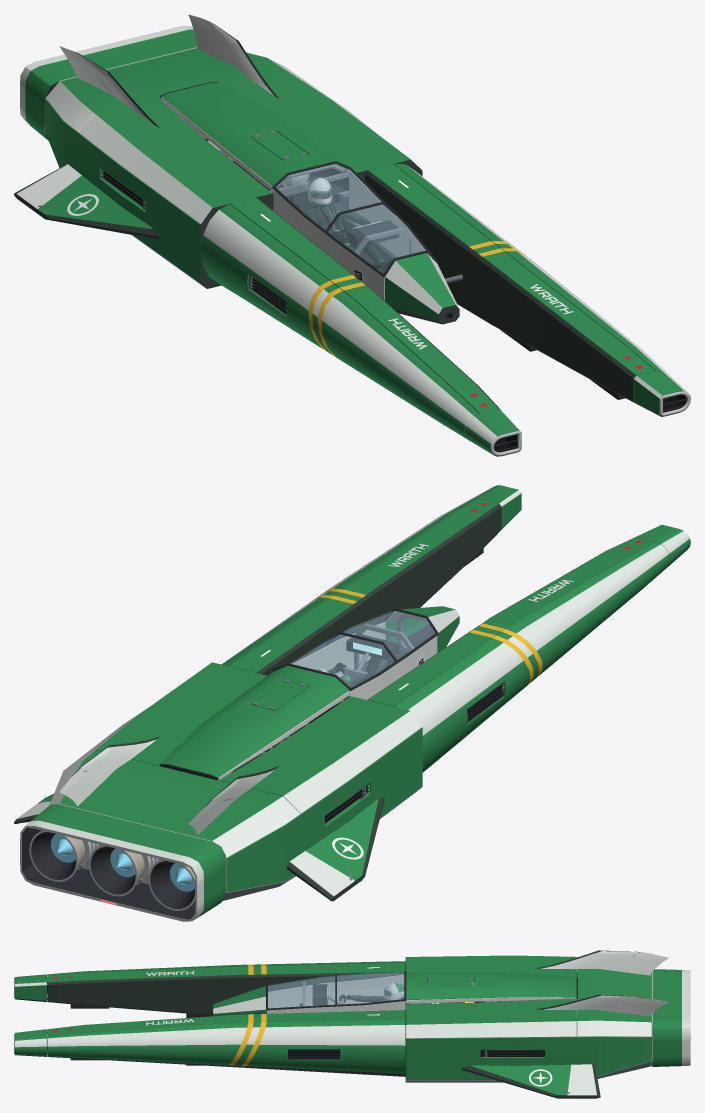
File: wraith.fbx
The picture shows the model from 3 angles, top to bottom: view 1: azimuth 30°, elevation 25°; view 2: azimuth 150°, elevation 25°; view 3: azimuth 270°, elevation 25°; orthographic projection. The views are drawn at different scales.
Visible parts, largest first — view 1: Arm_Outer_L, Arm_Inner_R, Deck_L, Canopy, Body_Side_L, Deck_R, Spine_Top, Deck_Rear, Arm_Top_L, Arm_Top_R, Engine_Shroud, Wing_Top_L (+18 smaller); view 2: Arm_Outer_L, Deck_Rear, Deck_L, Engine_Shroud, Body_Side_L, Spine_Top, Arm_Inner_R, Deck_R, Arm_Top_L, Arm_Top_R, Canopy, Wing_Top_L (+17 smaller); view 3: Arm_Outer_R, Body_Side_R, Arm_Inner_L, Deck_R, Spine_Top, Deck_Rear, Canopy, Engine_Shroud, Shark_Fins, Arm_Top_L, Arm_Top_R, Deck_L (+17 smaller).
Boxes of the visible parts, x1,y1,x2,y2 form: Arm_Outer_L: (201,204,478,439); Arm_Inner_R: (365,171,635,402); Deck_L: (78,99,271,223); Canopy: (276,163,425,273); Body_Side_L: (45,99,200,283); Deck_R: (222,68,421,172); Spine_Top: (161,82,348,186); Deck_Rear: (46,48,299,132); Arm_Top_L: (230,197,498,413); Arm_Top_R: (368,164,654,375); Engine_Shroud: (20,25,196,140); Wing_Top_L: (17,164,153,229); Arm_Outer_L: (394,542,670,772); Deck_Rear: (49,750,300,857); Deck_L: (220,696,421,813); Engine_Shroud: (20,804,225,921); Body_Side_L: (226,728,422,892); Spine_Top: (161,665,349,777); Arm_Inner_R: (257,504,501,675); Deck_R: (79,662,267,765); Arm_Top_L: (368,537,654,706); Arm_Top_R: (230,499,498,672); Canopy: (290,610,434,687); Wing_Top_L: (289,784,378,896); Arm_Outer_R: (47,1019,405,1076); Body_Side_R: (406,1036,651,1079); Arm_Inner_L: (47,972,403,1015); Deck_R: (406,999,576,1038); Spine_Top: (406,972,576,1000); Deck_Rear: (577,957,651,1036); Canopy: (268,972,404,1007); Engine_Shroud: (652,969,690,1066); Shark_Fins: (535,950,668,1016); Arm_Top_L: (47,963,405,982); Arm_Top_R: (47,1010,405,1035); Deck_L: (406,955,576,977).
Size of the model in its own units: 240 by 80 by 632.
